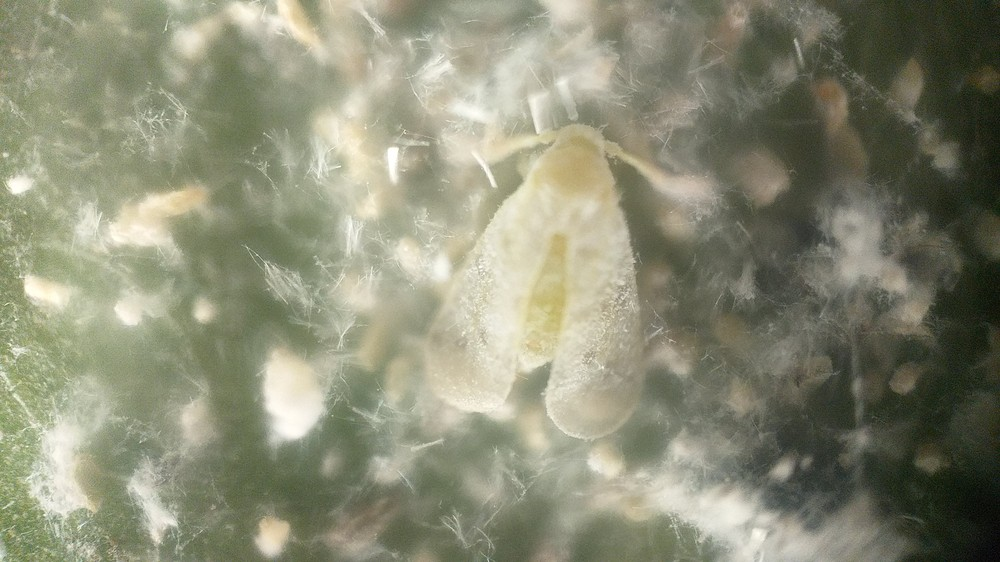Mosca Blanca: (412, 110, 713, 446)
